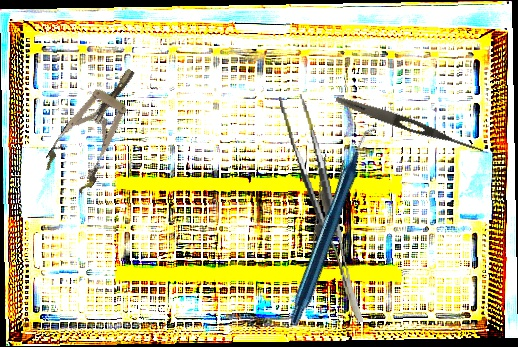Dressing Forceps: (334, 93, 485, 156)
Handpiece: (226, 125, 444, 327)
Speculum: (39, 56, 156, 197)
Tissue Forceps: (278, 89, 364, 330), (281, 154, 353, 297)
